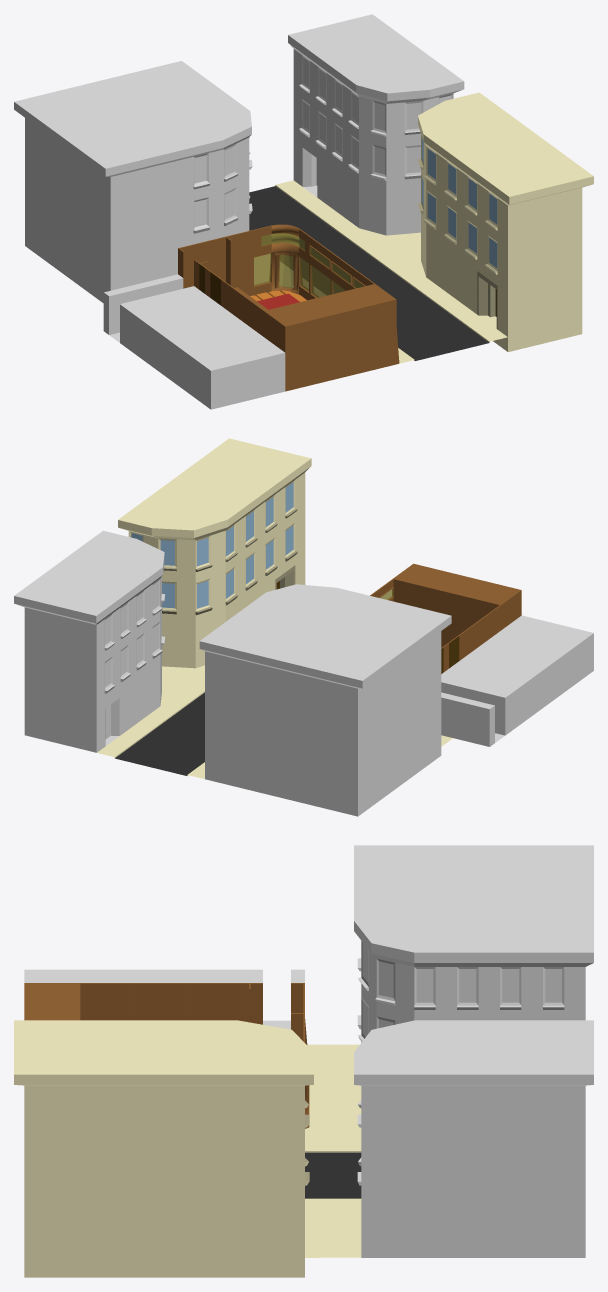
The model's file is StartingRoom_1.fbx.
3 views of the same model, one above another, from view 1: azimuth 30°, elevation 25°; view 2: azimuth 150°, elevation 25°; view 3: azimuth 270°, elevation 25° (orthographic). The views are drawn at different scales.
Parts seen in each view (by area): view 1: Plane.388, Plane.412, Plane.387, Plane.381, Plane.360, Plane.369, Plane.351, Plane.353, Plane.382, Plane.367, Plane.366, Plane.384 (+13 smaller); view 2: Plane.388, Plane.387, Plane.412, Plane.381, Plane.386, Plane.353, Plane.360, Plane.383, Plane.385, Plane.351, Plane.384, Plane.382 (+8 smaller); view 3: Plane.412, Plane.387, Plane.388, Plane.381, Plane.371, Plane.361, Plane.359, Plane.360, Plane.366, Plane.353, Plane.384, Plane.385 (+3 smaller).
Part boxes in pixels (x1,y1,x2,y2): Plane.388: [14, 61, 252, 303]; Plane.412: [417, 92, 593, 351]; Plane.387: [288, 14, 464, 235]; Plane.381: [249, 180, 507, 363]; Plane.360: [263, 302, 322, 391]; Plane.369: [252, 224, 310, 300]; Plane.351: [338, 284, 399, 373]; Plane.353: [301, 293, 359, 382]; Plane.382: [189, 346, 247, 409]; Plane.367: [227, 337, 285, 400]; Plane.366: [178, 236, 231, 289]; Plane.384: [168, 330, 226, 393]; Plane.388: [199, 584, 451, 816]; Plane.387: [14, 530, 164, 752]; Plane.412: [118, 438, 311, 668]; Plane.381: [97, 665, 452, 779]; Plane.386: [453, 685, 510, 746]; Plane.353: [428, 572, 485, 647]; Plane.360: [465, 581, 521, 630]; Plane.383: [475, 670, 531, 731]; Plane.385: [496, 654, 552, 716]; Plane.351: [393, 563, 449, 609]; Plane.384: [516, 639, 572, 700]; Plane.382: [537, 624, 593, 685]; Plane.412: [14, 1020, 313, 1277]; Plane.387: [354, 1020, 593, 1257]; Plane.388: [354, 845, 593, 1042]; Plane.381: [305, 1044, 361, 1257]; Plane.371: [192, 983, 248, 1022]; Plane.361: [80, 983, 136, 1020]; Plane.359: [136, 983, 192, 1020]; Plane.360: [24, 983, 80, 1006]; Plane.366: [249, 983, 309, 1097]; Plane.353: [24, 1006, 80, 1020]; Plane.384: [80, 969, 136, 982]; Plane.385: [136, 969, 192, 982].
Bounding box in the file's own units: 2042 × 817 × 2066.
